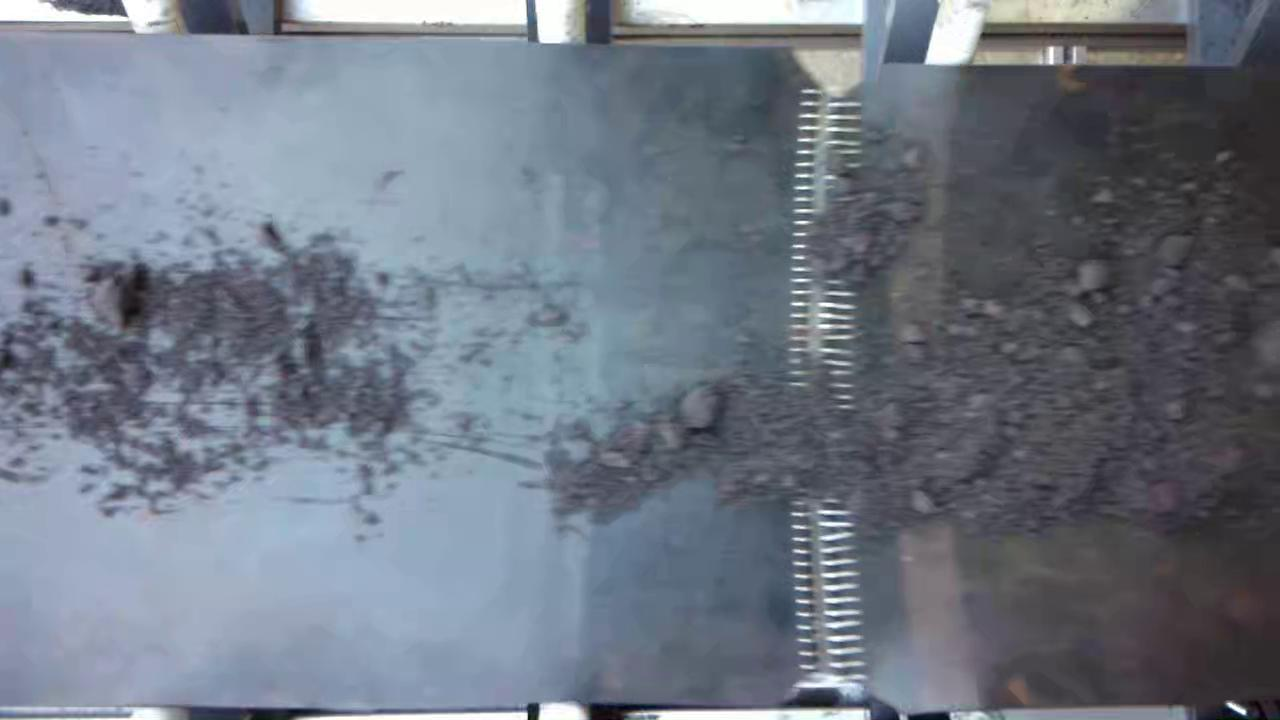conveyor: (3, 63, 1280, 701)
